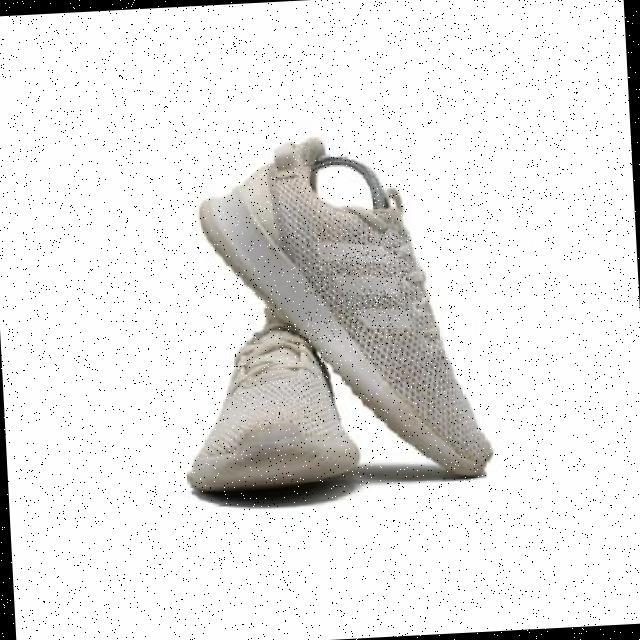Adidas: (301, 229, 413, 345)
